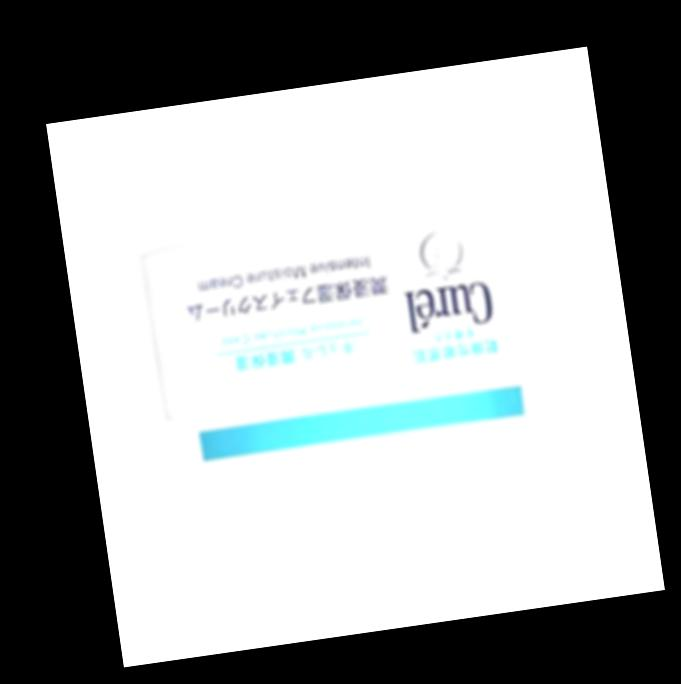cosmetic: (137, 195, 575, 541)
